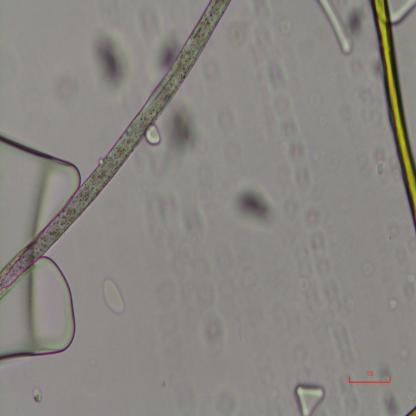Background material: (0, 258, 83, 358), (0, 129, 82, 209), (231, 168, 280, 236), (310, 0, 365, 56), (91, 27, 129, 91), (185, 302, 231, 346), (172, 108, 202, 148), (100, 266, 123, 316), (294, 381, 325, 416), (154, 30, 181, 64), (224, 19, 250, 51), (390, 0, 416, 26), (375, 138, 389, 178), (146, 123, 164, 149), (389, 291, 399, 315), (344, 292, 356, 312), (383, 366, 392, 384)
Microfibre: (0, 0, 233, 290), (371, 0, 416, 222), (405, 405, 416, 416)
